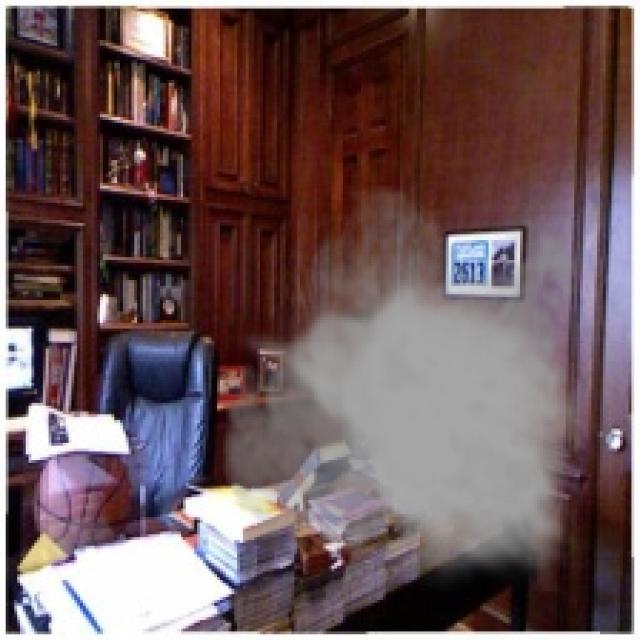smoke: (217, 186, 589, 591)
